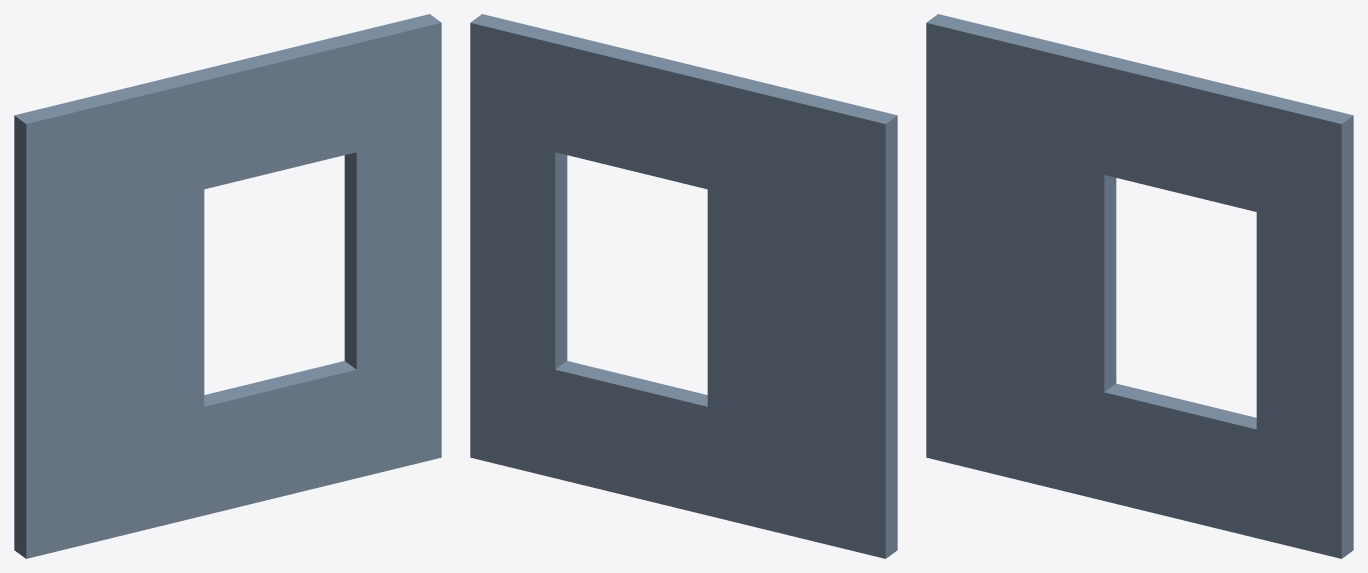
File: Wal_1_D.fbx
The picture shows the model from 3 angles, left to right: view 1: azimuth 30°, elevation 25°; view 2: azimuth 150°, elevation 25°; view 3: azimuth 330°, elevation 25°; orthographic projection.
Parts seen in each view (by area): view 1: pCube6; view 2: pCube6; view 3: pCube6.
Boxes of the visible parts, left/top/right/bottom form: pCube6: left=14, top=14, right=441, bottom=558; pCube6: left=470, top=14, right=897, bottom=558; pCube6: left=926, top=14, right=1353, bottom=558.
Size of the model in its own units: 4 by 4 by 0.2.
1 material, 1 textured.
